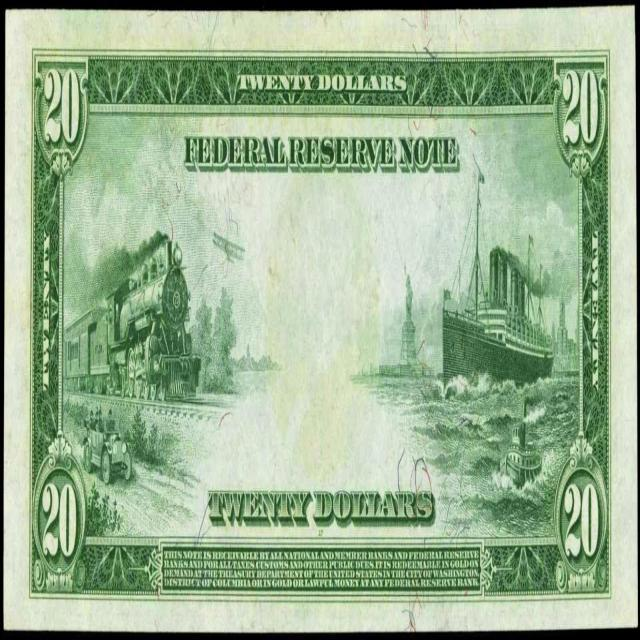20-Back: (3, 8, 638, 627)
